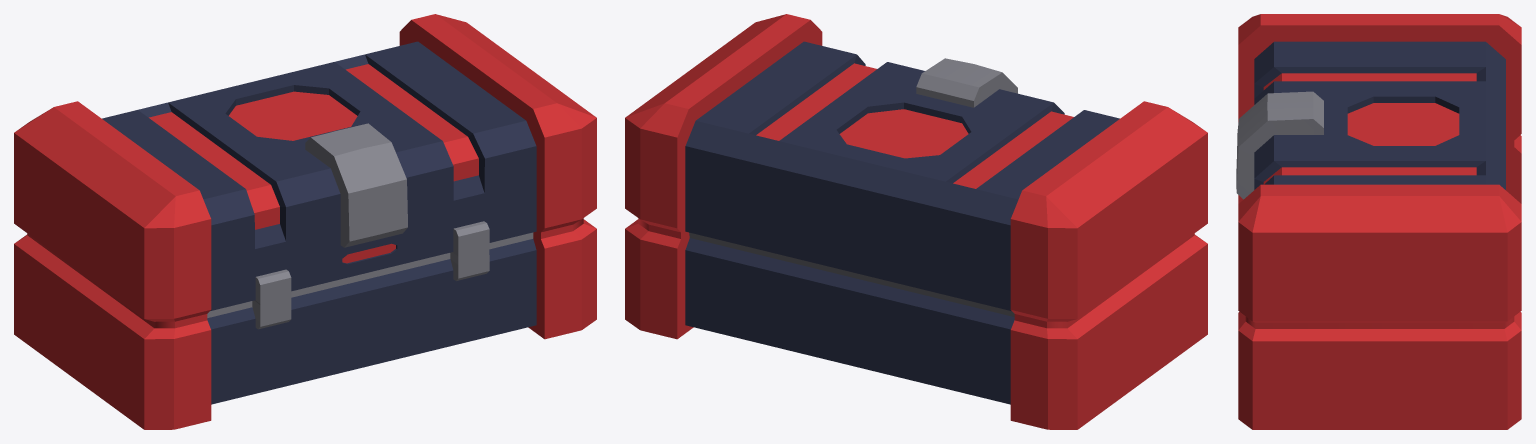
File: Chest.fbx
The picture shows the model from 3 angles, left to right: view 1: azimuth 30°, elevation 25°; view 2: azimuth 150°, elevation 25°; view 3: azimuth 270°, elevation 25°; orthographic projection. The views are drawn at different scales.
Parts seen in each view (by area): view 1: Chest; view 2: Chest; view 3: Chest.
Part boxes in pixels (left/top/right/bottom): Chest: left=14, top=14, right=596, bottom=429; Chest: left=625, top=14, right=1207, bottom=429; Chest: left=1236, top=14, right=1521, bottom=429.
Size of the model in its own units: 190 by 89.08 by 106.
